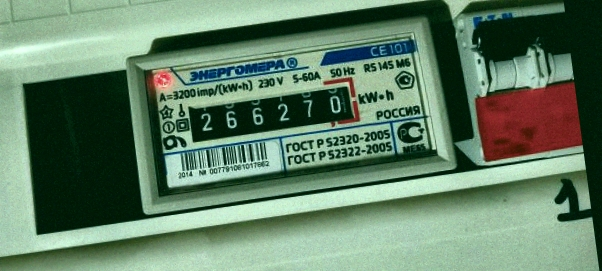0: (327, 92, 342, 114)
2: (197, 110, 215, 132), (274, 100, 291, 122)
6: (223, 107, 238, 130), (250, 105, 265, 126)
7: (300, 97, 315, 117)
screen: (177, 73, 366, 149)
